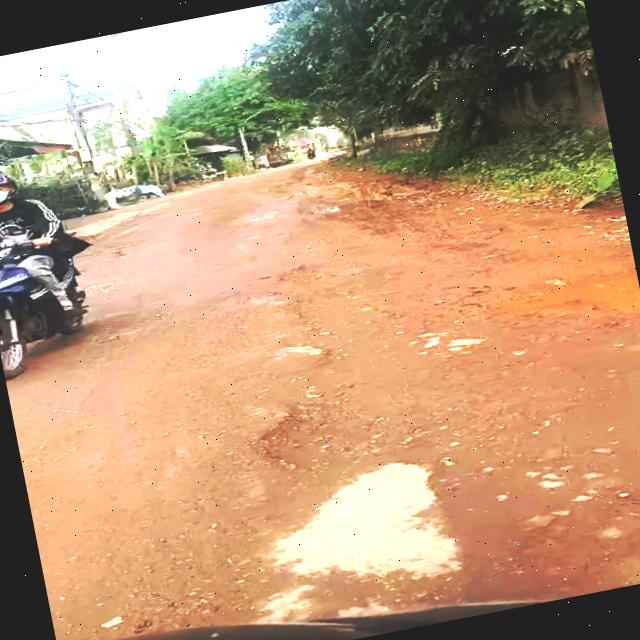pothole: (240, 367, 447, 482), (465, 258, 640, 355)
